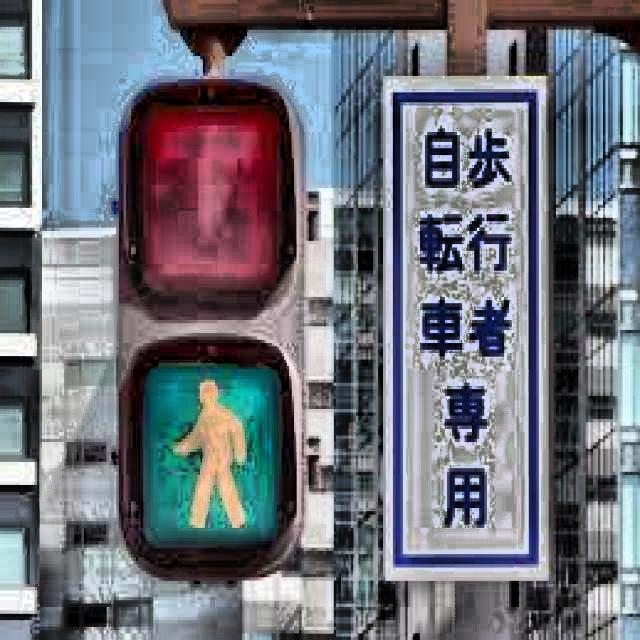semaforo pedestre: (78, 54, 445, 588)
